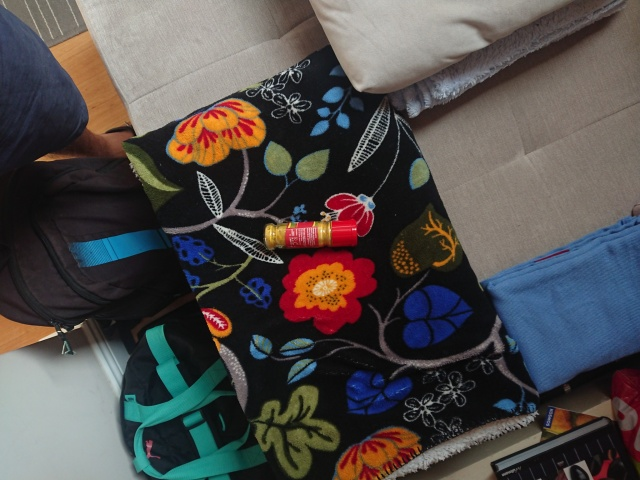Kotanyi Curry Spices Mix 70g: (261, 217, 359, 252)
